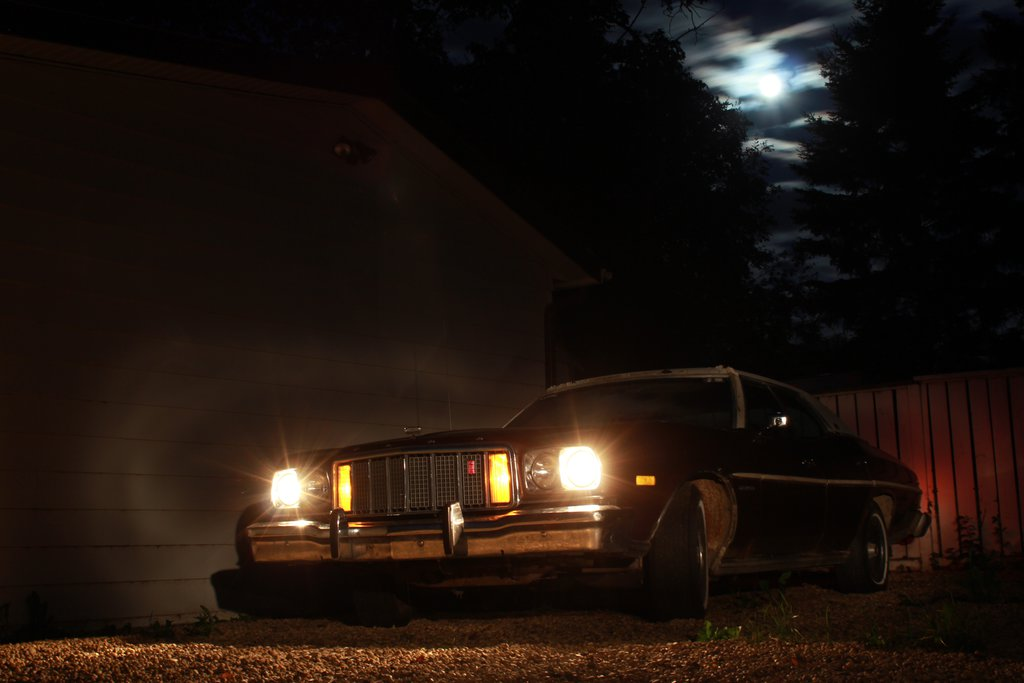car: (237, 350, 938, 638)
